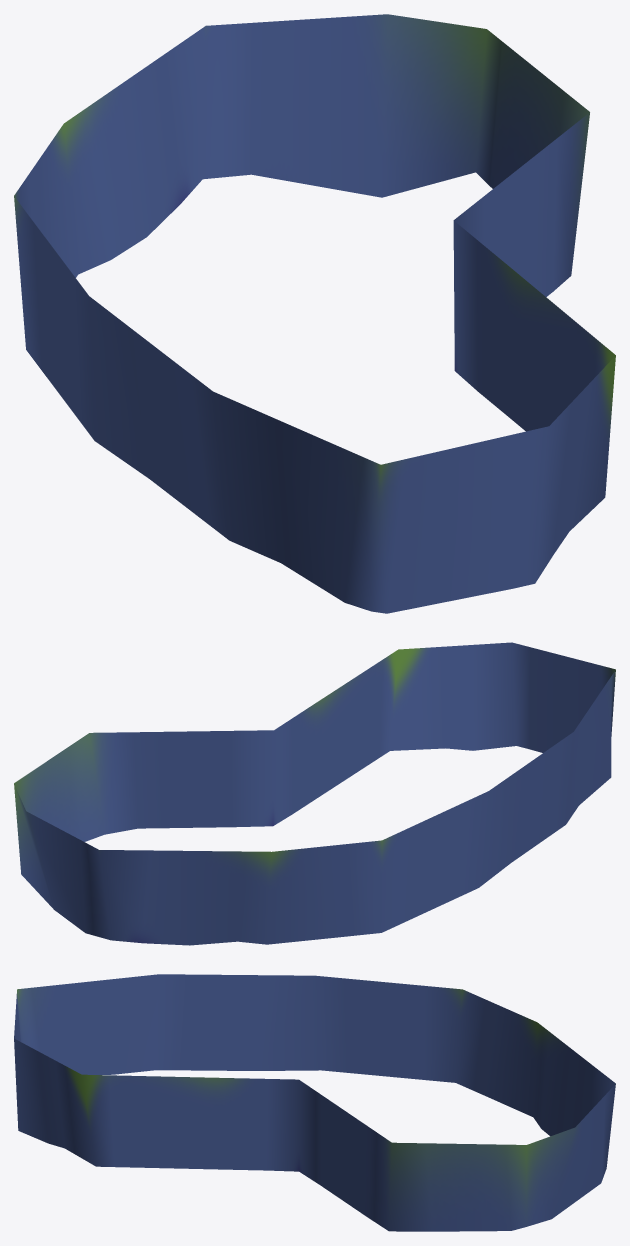
The model's file is floor_collider.fbx.
The picture shows the model from 3 angles, top to bottom: view 1: azimuth 30°, elevation 25°; view 2: azimuth 150°, elevation 25°; view 3: azimuth 270°, elevation 25°; orthographic projection. The views are drawn at different scales.
Visible parts, largest first — view 1: waterCollider; view 2: waterCollider; view 3: waterCollider.
Boxes of the visible parts, x1=… form: waterCollider: x1=14, y1=14, x2=615, y2=613; waterCollider: x1=14, y1=642, x2=615, y2=945; waterCollider: x1=14, y1=974, x2=615, y2=1231.
Size of the model in its own units: 3427 by 928 by 5106.
